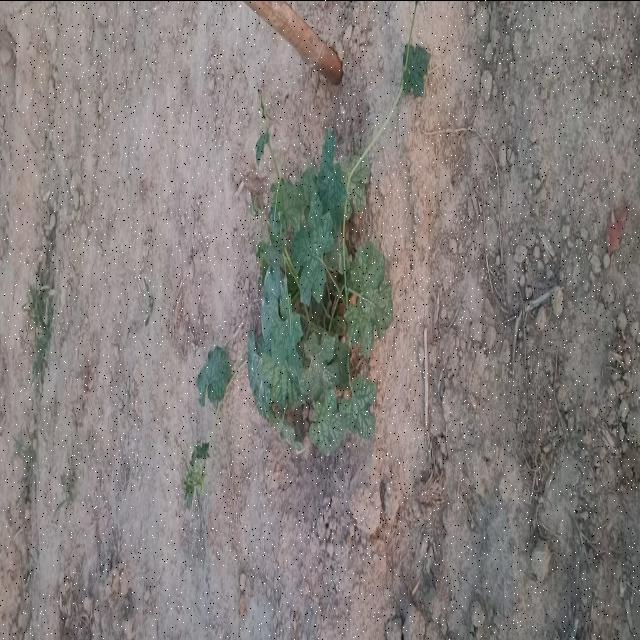plant: (246, 43, 428, 455), (198, 345, 241, 407)
